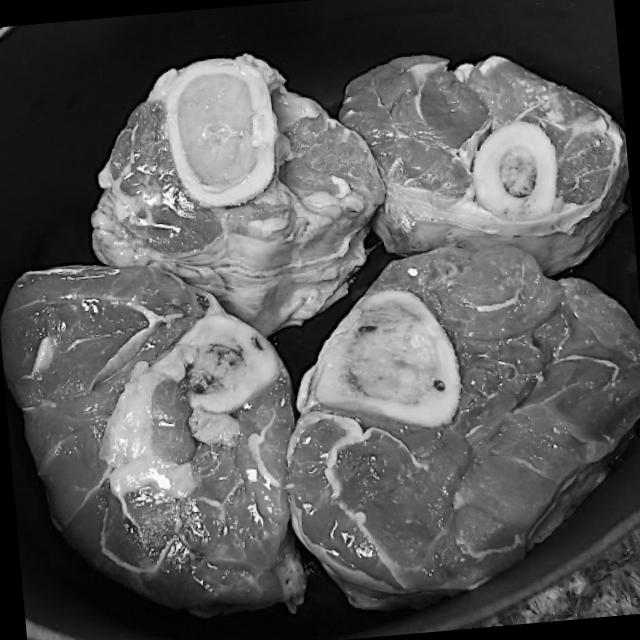chan gio: (275, 241, 640, 596), (0, 248, 308, 625), (95, 43, 386, 334), (342, 40, 632, 289)
